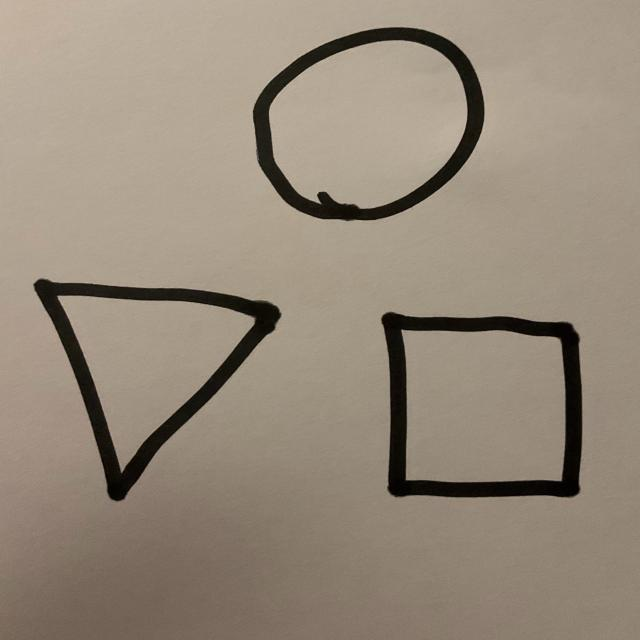Dreieck: (33, 279, 282, 504)
Kreis: (251, 27, 487, 223)
Quadrat: (380, 312, 584, 501)
